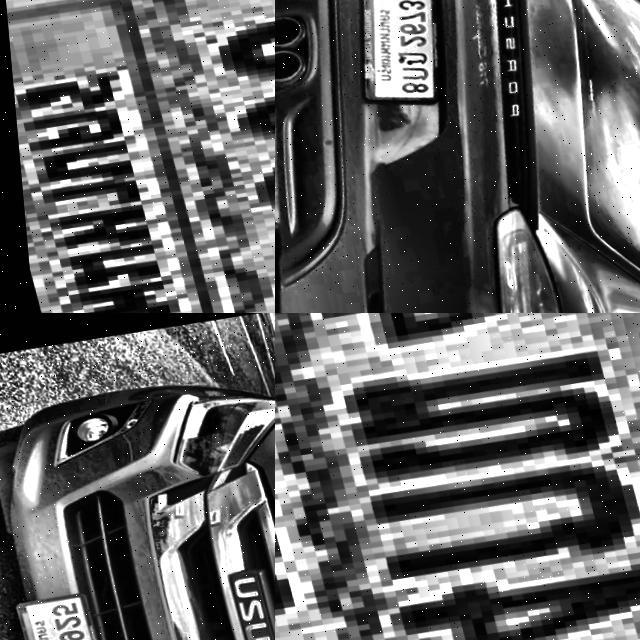license-plate: (275, 313, 640, 640), (0, 0, 275, 313), (327, 0, 468, 117), (8, 585, 111, 640)
